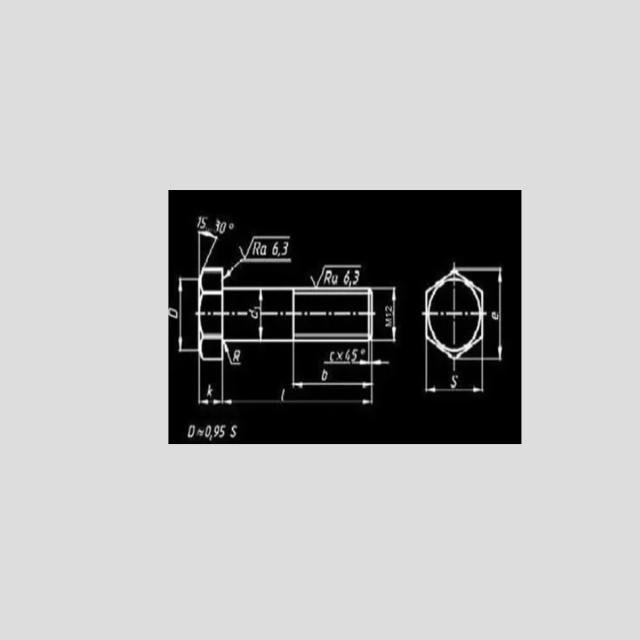marking_line: (220, 362, 374, 405), (291, 343, 376, 388), (423, 361, 485, 394), (483, 266, 503, 361), (225, 254, 289, 282), (176, 276, 197, 355), (375, 285, 398, 343), (197, 362, 225, 407), (325, 343, 370, 366), (198, 231, 218, 266), (371, 345, 390, 367), (258, 290, 263, 340)
numeric: (168, 306, 178, 320), (272, 239, 280, 256), (342, 269, 350, 286), (352, 269, 360, 285), (282, 240, 289, 255), (219, 222, 227, 235), (201, 216, 209, 229), (351, 348, 358, 362), (204, 425, 211, 439), (213, 425, 220, 439), (214, 218, 220, 232), (196, 214, 201, 228), (345, 349, 350, 361), (385, 305, 393, 312), (385, 313, 392, 318)
special_symbol: (239, 231, 295, 259), (309, 262, 364, 286), (225, 344, 242, 366), (206, 381, 213, 399), (220, 424, 225, 438), (360, 348, 367, 356), (229, 223, 235, 230)
